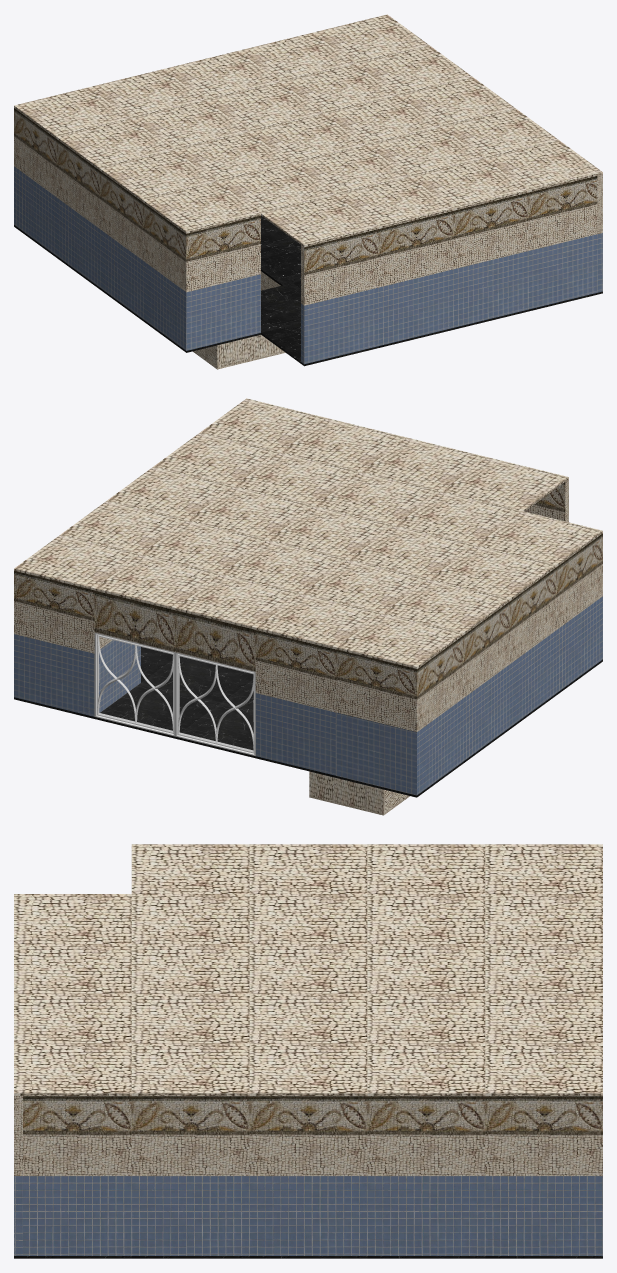
File: Bathroom.fbx
3 renders of one model, top to bottom at view 1: azimuth 30°, elevation 25°; view 2: azimuth 150°, elevation 25°; view 3: azimuth 270°, elevation 25°, orthographic. The views are drawn at different scales.
Parts seen in each view (by area): view 1: BathroomWallB1Right.004, BathroomWallB0Front, BathroomWallB1Front, BathroomWallB1Left, BathroomWallB0Left, BathroomWallB1Right.005, BathroomFloor.001, BathroomWallB0Back.000, BathroomFloor.002, BathroomFloor; view 2: BathroomWallB1Right.004, BathroomWallB0Left, BathroomWallB1Left, BathroomWallB1Right.005, BathroomFloor.002, BathroomWallB0Right, BathroomWindow.002, BathroomWallB1Right, BathroomWallB1Back.001, BathroomWallB0Back.001, BathroomWallB0Back.000, BathroomWindow.001 (+3 smaller); view 3: BathroomWallB1Right.004, BathroomWallB1Right.005, BathroomWallB0Right.003, BathroomWallB1Right.003, BathroomWallB0Right.002, BathroomWallB1Right.002, BathroomWallB0Right.001, BathroomWallB1Right.001, BathroomWallB1Right, BathroomWallB0Right, BathroomFloor.002, BathroomWallB0Front (+2 smaller).
Part boxes in pixels (x1,y1,x2,y2): BathroomWallB1Right.004: (14, 14, 559, 233); BathroomWallB0Front: (301, 234, 597, 364); BathroomWallB1Front: (301, 175, 597, 305); BathroomWallB1Left: (14, 108, 260, 292); BathroomWallB0Left: (14, 166, 260, 350); BathroomWallB1Right.005: (261, 140, 602, 246); BathroomFloor.001: (261, 281, 602, 366); BathroomWallB0Back.000: (193, 260, 293, 369); BathroomFloor.002: (261, 215, 300, 282); BathroomFloor: (14, 225, 260, 352); BathroomWallB1Right.004: (14, 432, 602, 668); BathroomWallB0Left: (336, 596, 602, 795); BathroomWallB1Left: (336, 533, 602, 732); BathroomWallB1Right.005: (200, 398, 568, 511); BathroomFloor.002: (14, 647, 255, 758); BathroomWallB0Right: (14, 634, 140, 716); BathroomWindow.002: (94, 590, 255, 671); BathroomWallB1Right: (14, 571, 112, 653); BathroomWallB1Back.001: (255, 630, 336, 712); BathroomWallB0Back.001: (255, 693, 336, 775); BathroomWallB0Back.000: (309, 771, 409, 815); BathroomWindow.001: (175, 652, 255, 755); BathroomWallB1Right.004: (131, 844, 602, 1095); BathroomWallB1Right.005: (14, 894, 131, 1095); BathroomWallB0Right.003: (14, 1176, 249, 1255); BathroomWallB1Right.003: (14, 1096, 249, 1175); BathroomWallB0Right.002: (249, 1176, 367, 1255); BathroomWallB1Right.002: (249, 1096, 367, 1175); BathroomWallB0Right.001: (367, 1176, 485, 1255); BathroomWallB1Right.001: (367, 1096, 485, 1175); BathroomWallB1Right: (485, 1096, 602, 1175); BathroomWallB0Right: (485, 1176, 602, 1255); BathroomFloor.002: (249, 1256, 602, 1258); BathroomWallB0Front: (14, 1176, 22, 1255).
Size of the model in its own units: 1000 by 477 by 1000.
